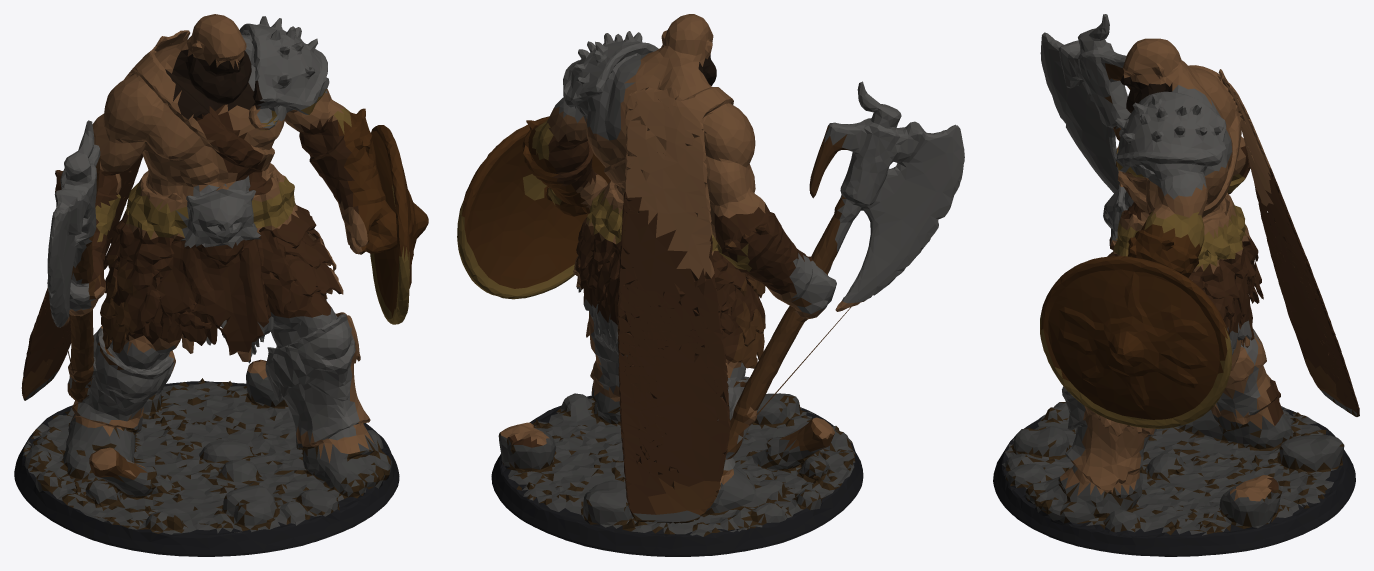
File: gigante_guerreiro.glb
The picture shows the model from 3 angles, left to right: view 1: azimuth 30°, elevation 25°; view 2: azimuth 150°, elevation 25°; view 3: azimuth 270°, elevation 25°; orthographic projection. The views are drawn at different scales.
Parts seen in each view (by area): view 1: tmpuny1y1b6.ply; view 2: tmpuny1y1b6.ply; view 3: tmpuny1y1b6.ply.
Part boxes in pixels (left/top/right/bottom): tmpuny1y1b6.ply: left=14, top=14, right=428, bottom=556; tmpuny1y1b6.ply: left=457, top=14, right=964, bottom=556; tmpuny1y1b6.ply: left=993, top=14, right=1359, bottom=556.
Size of the model in its own units: 1.87 by 1.96 by 1.48.
